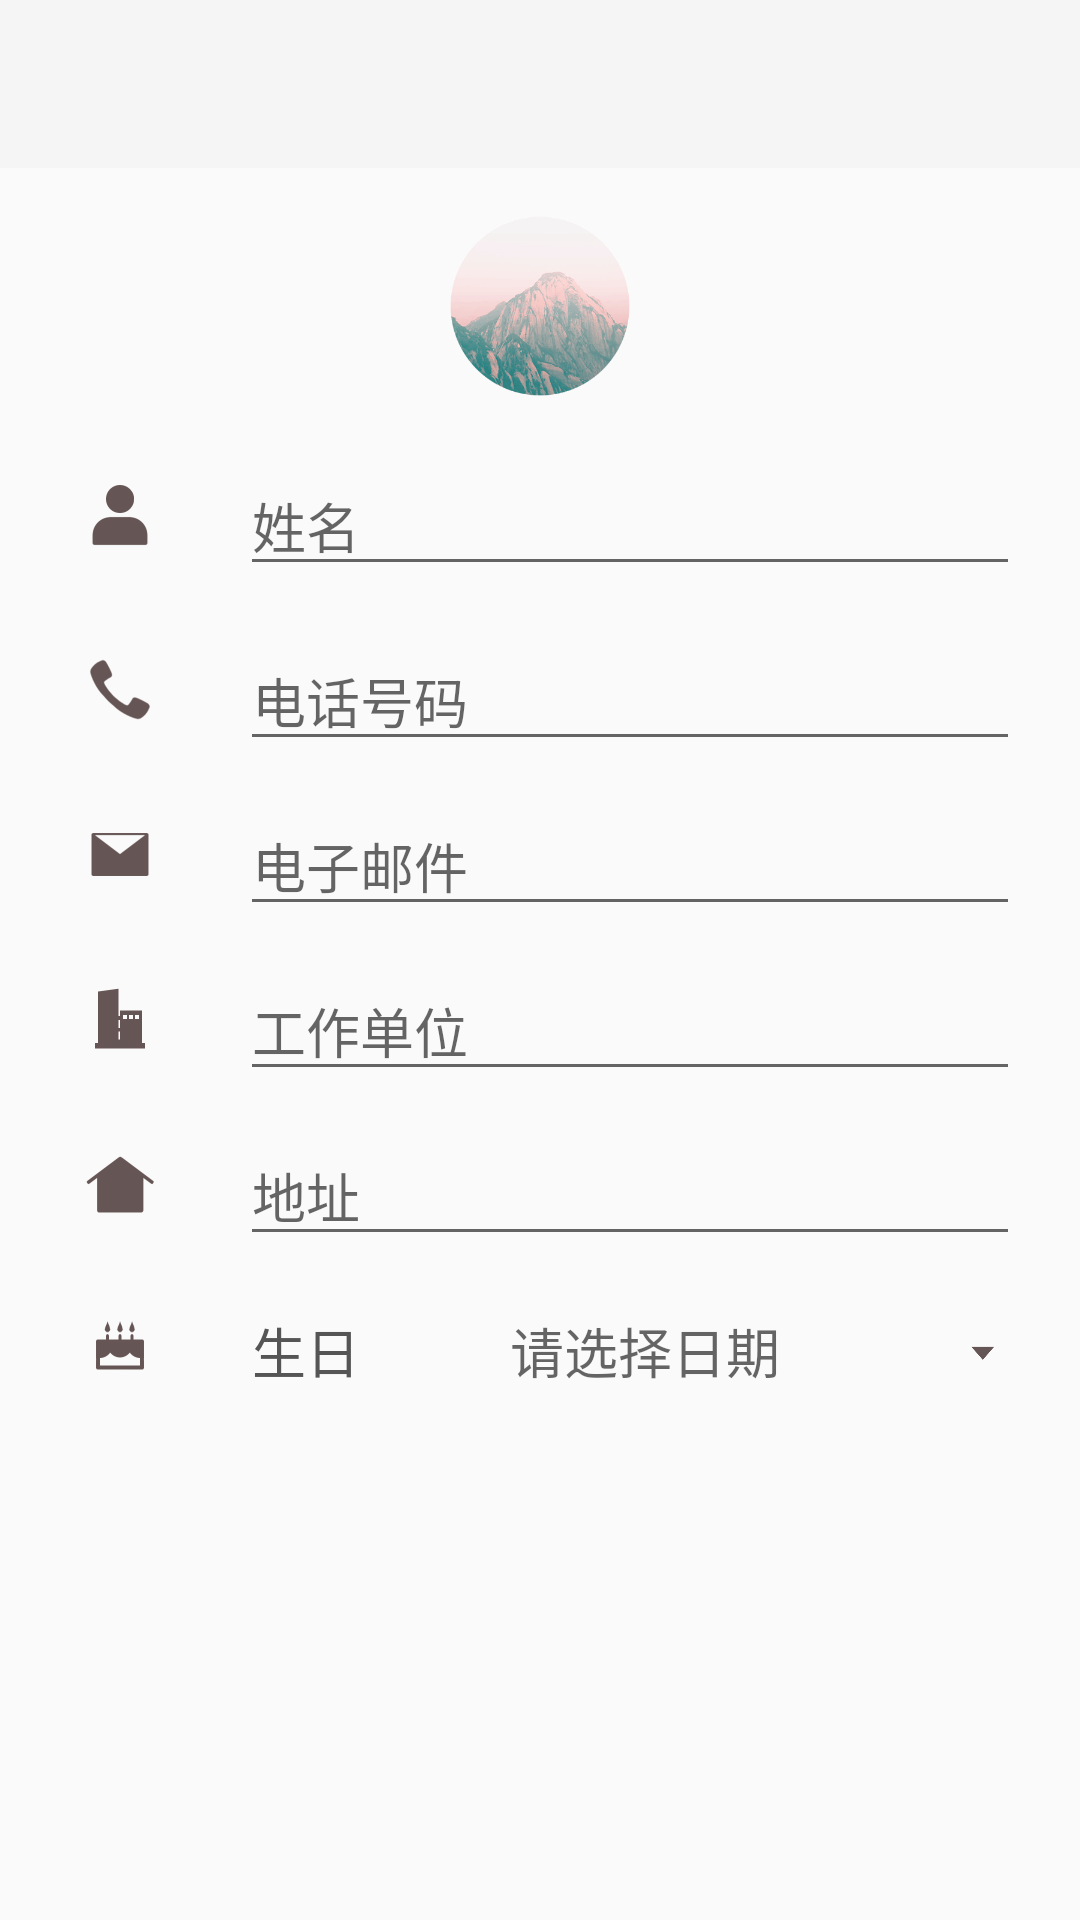

Named icons in this screenshot (1080px×1920px) and their bounding boxes, (x1,y1,x2,y2):
address: (87,1156,154,1213)
birthday: (96,1321,144,1370)
email: (91,833,149,876)
organization: (95,989,145,1049)
person: (92,485,148,545)
phone: (90,660,150,719)
